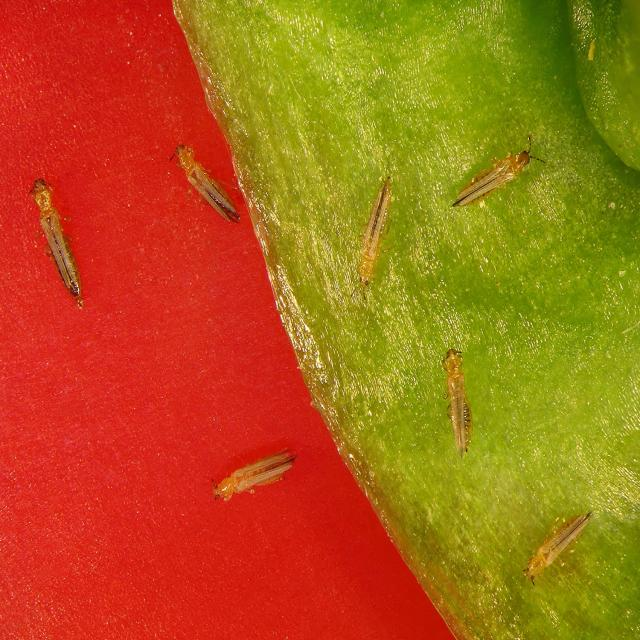Thrip-Adult-: (26, 168, 86, 304), (444, 139, 540, 217), (170, 132, 246, 226), (348, 165, 398, 297), (204, 441, 304, 504), (521, 509, 596, 587), (438, 338, 472, 460)
